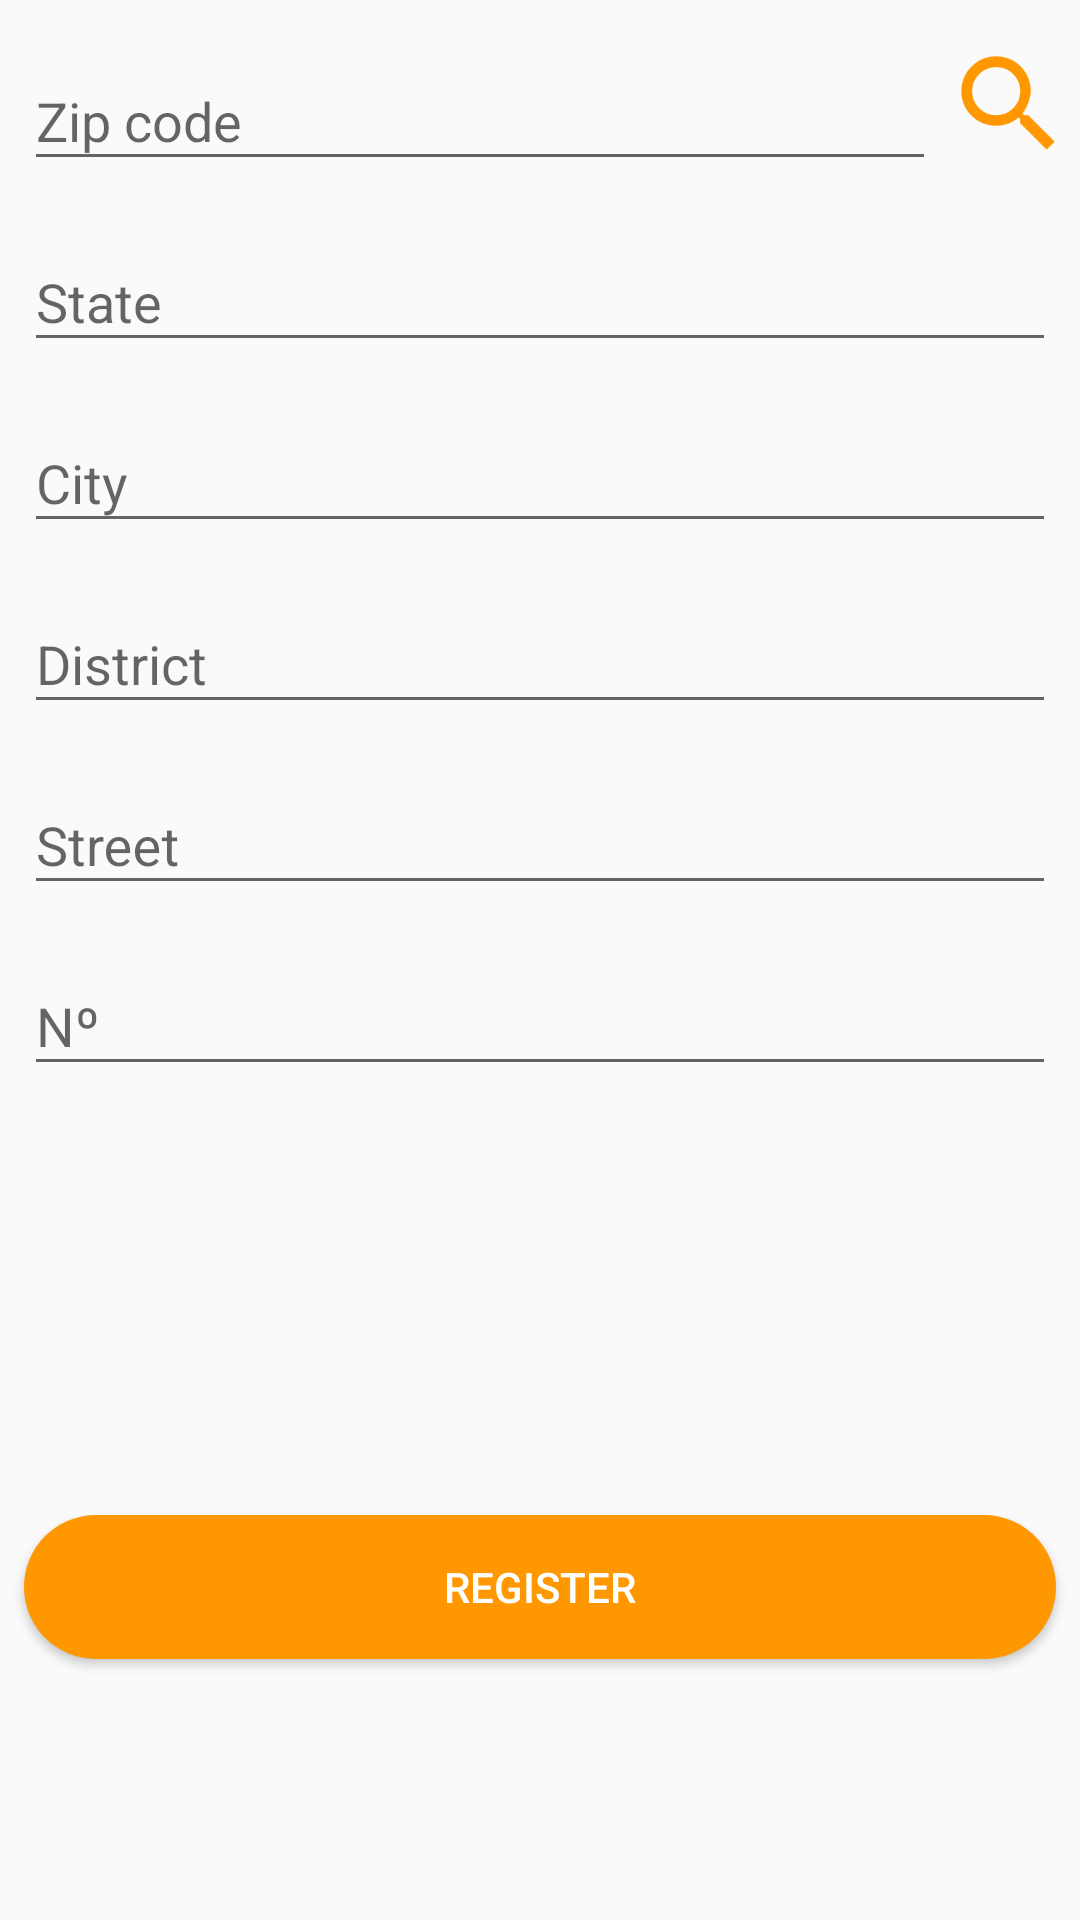

Locate icon controls on the screen. Image size 1080 × 1920, boxes as box=[x1, y1, x2, y2].
search: box=[961, 56, 1055, 150]
